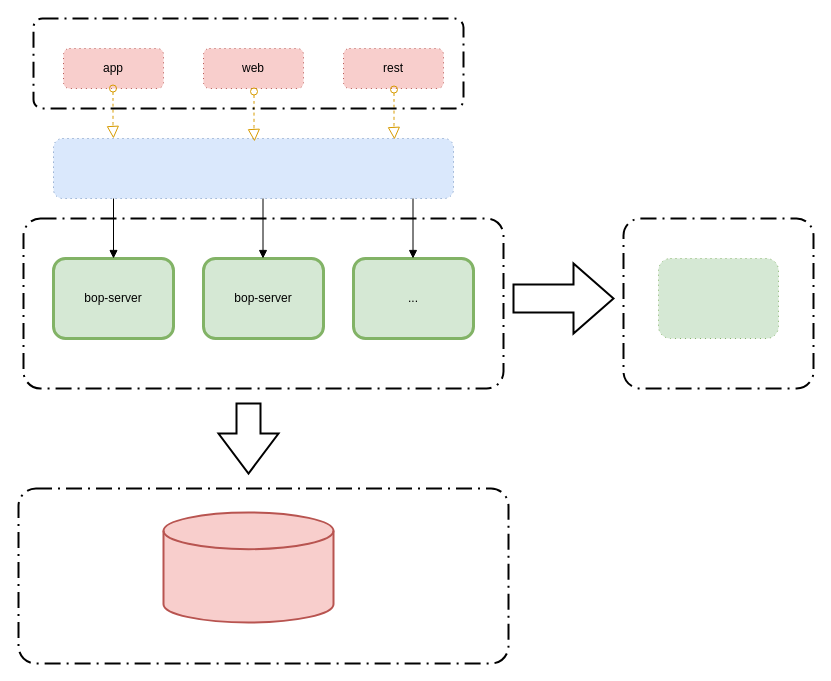
This 831x681 diagram has some shape labels left out. Here are the shapes that lost their labels. From the top down, the centre of each, then its label:
At (x=253, y=168): "bop-web".
At (x=718, y=298): "mls-server".
At (x=248, y=567): "bop-db".
